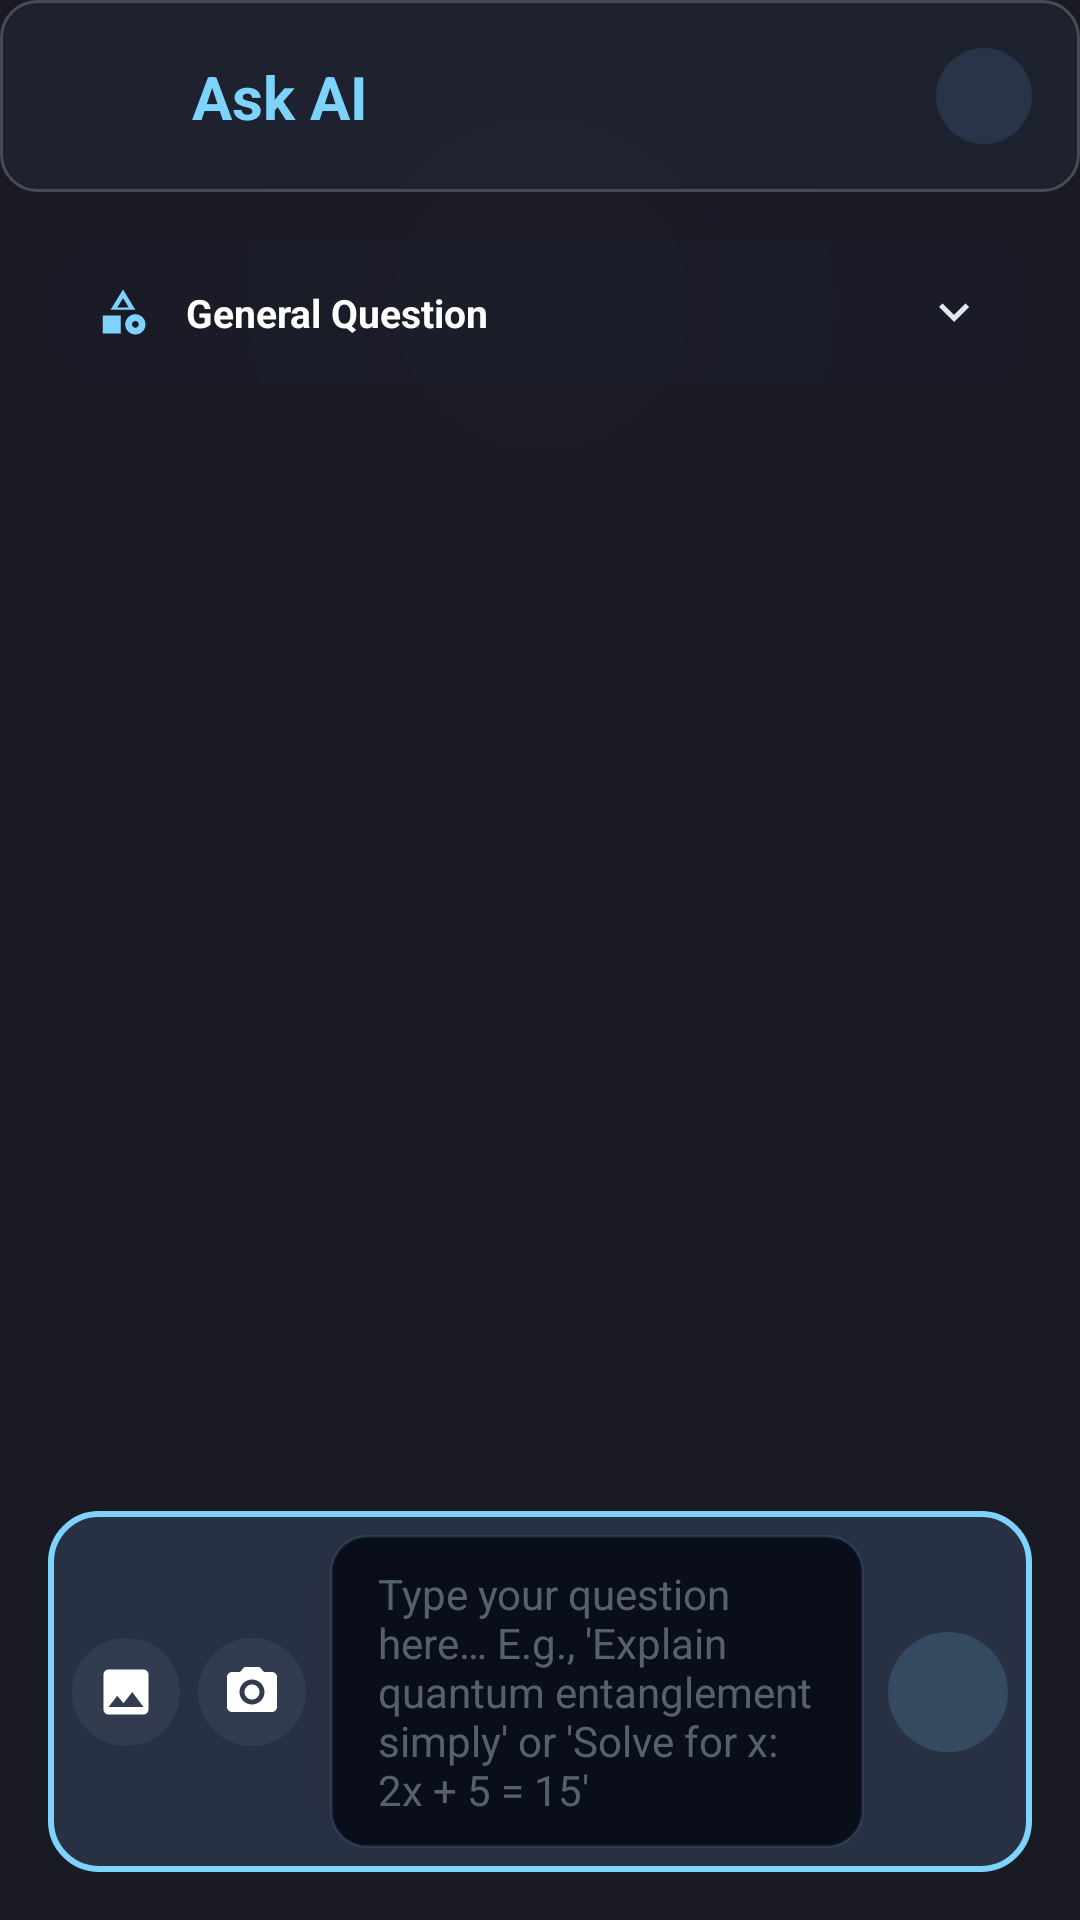

Point at icon controls on the screen. Image size 1080 x 1920, points as (x=x, y=y).
category: (x=124, y=312)
expand more: (x=954, y=312)
photo camera: (x=252, y=1689)
